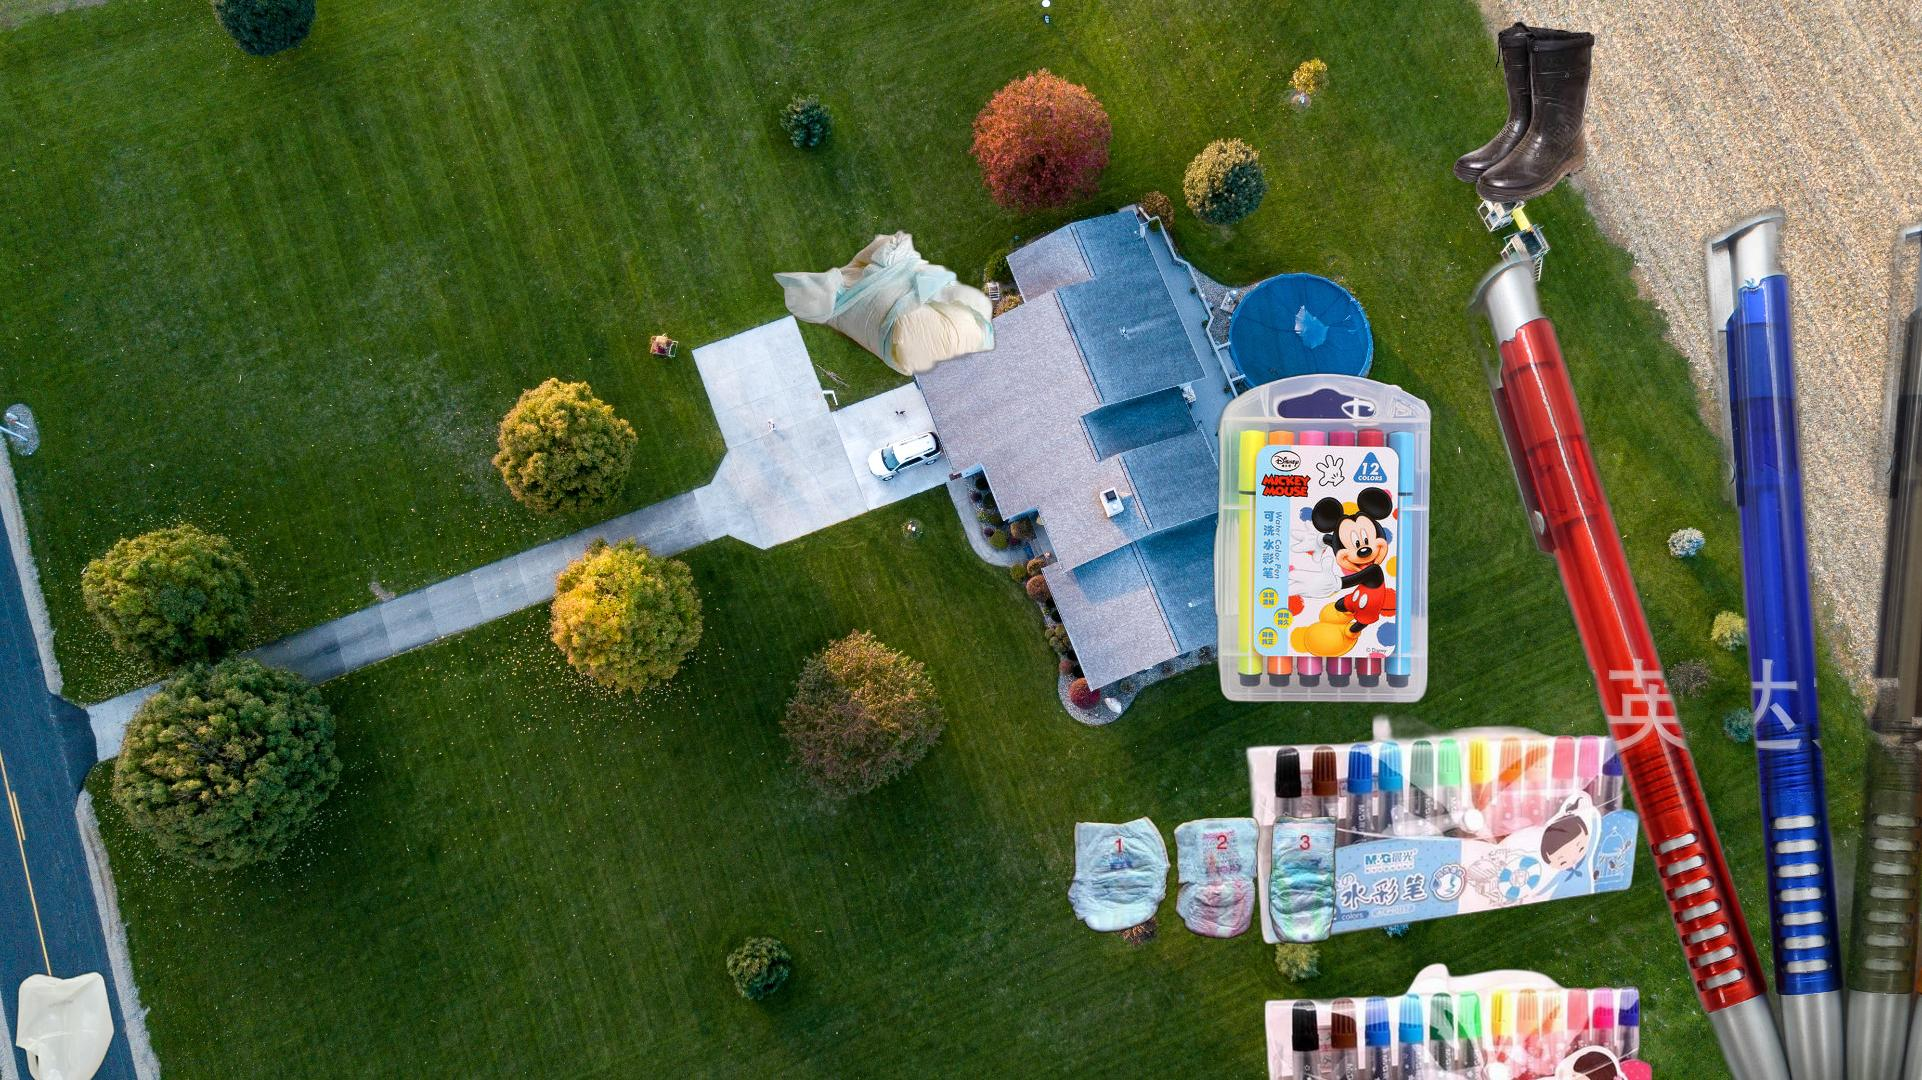glass: (1896, 866, 1922, 1080)
penholder: (1453, 198, 1922, 1080), (1240, 708, 1658, 1080), (1209, 367, 1463, 708)
plastic-bottles: (11, 965, 117, 1080)
shoes: (1449, 18, 1599, 206)
trash: (1063, 813, 1340, 947), (770, 224, 1001, 379)
